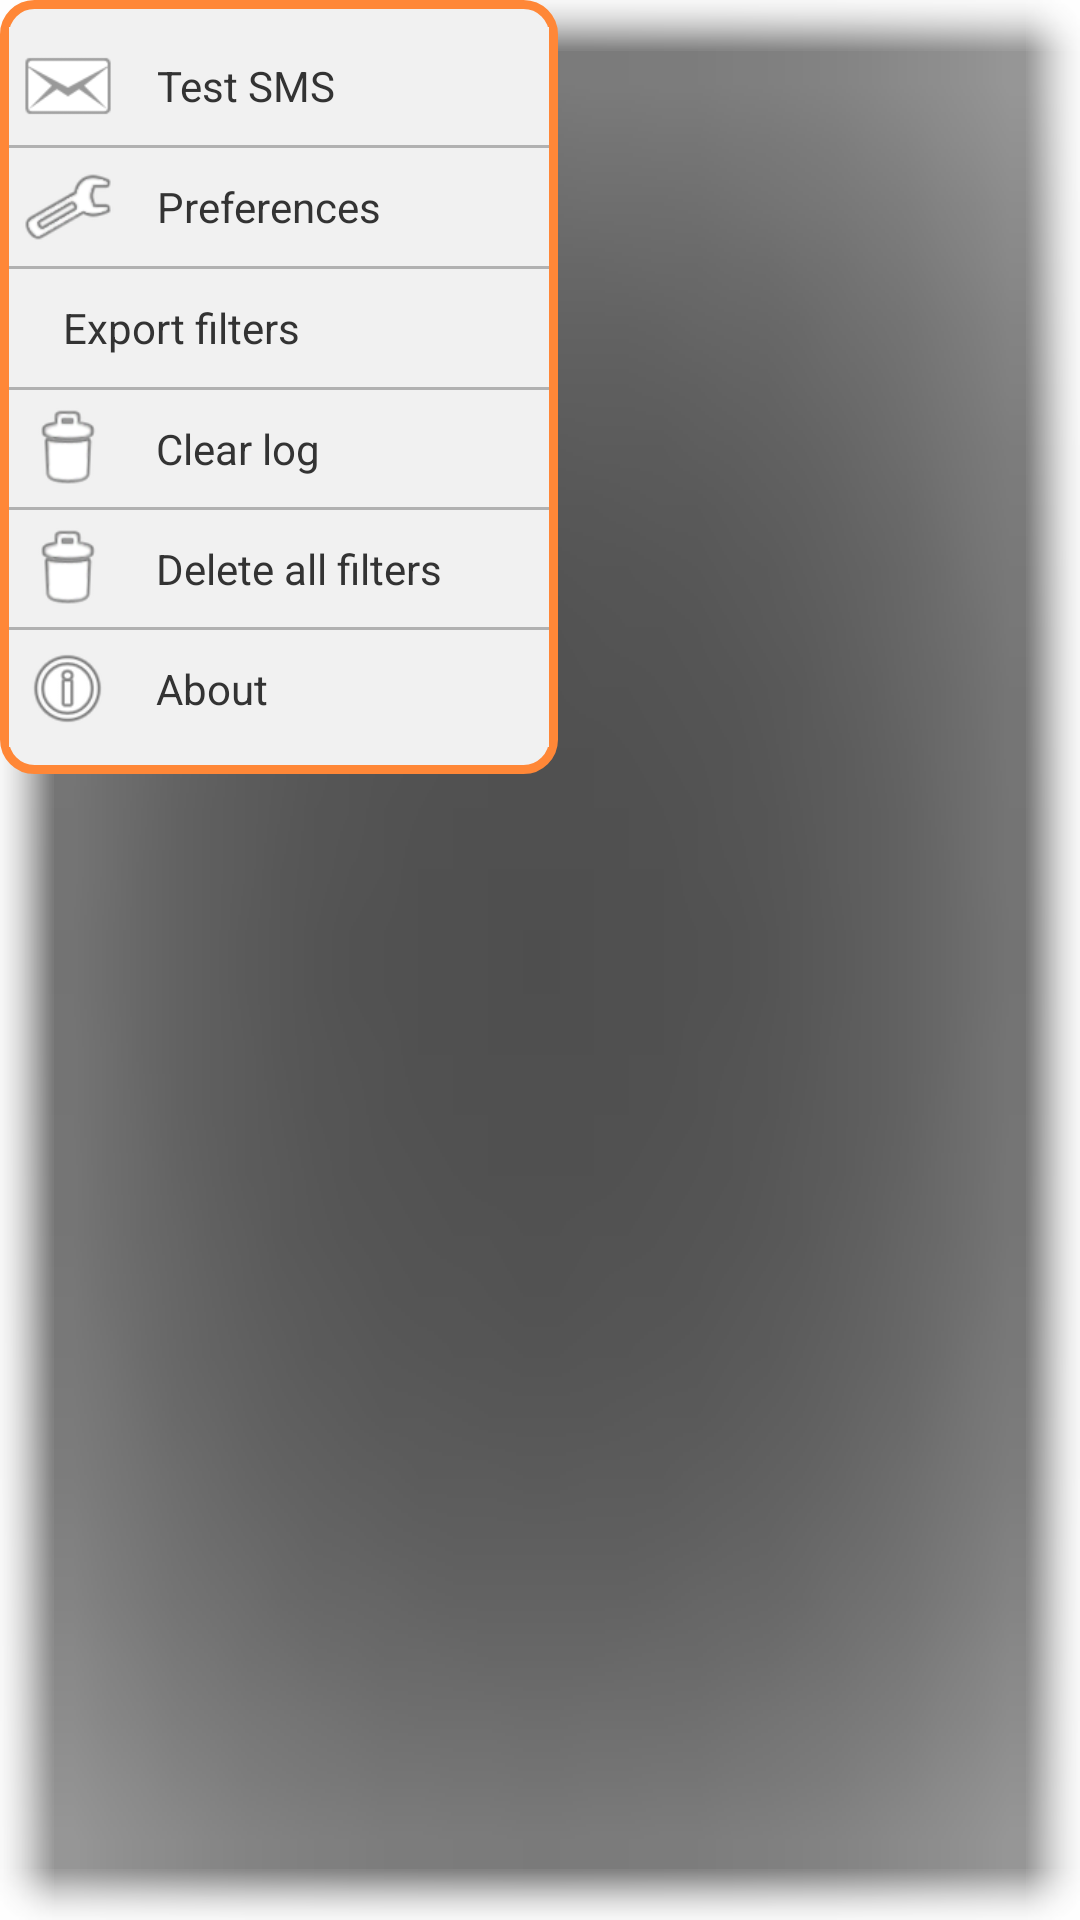

Screen size 1080×1920. Icon name, then its box in pixels as (x1, y1, x2, y2):
info: (34, 655, 101, 722)
